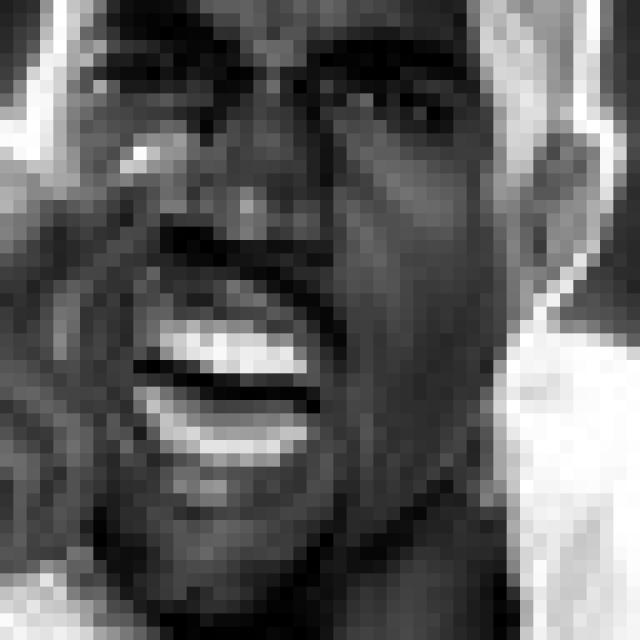angry: (73, 1, 474, 513)
